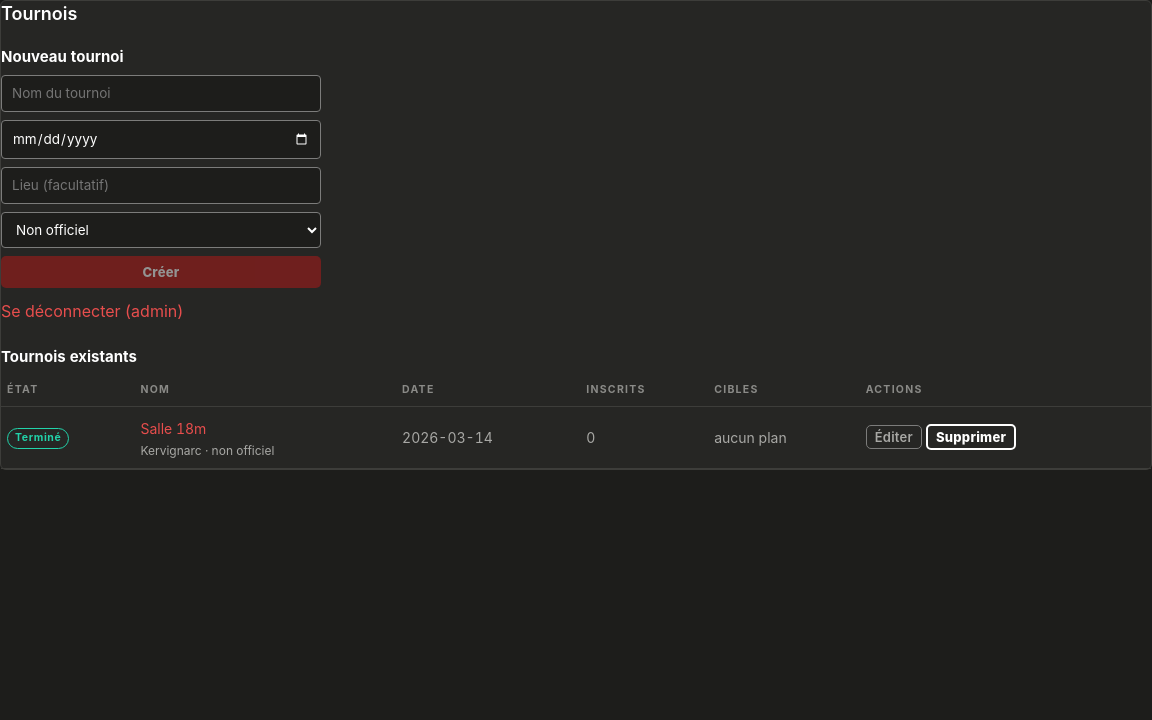
supprimer un tournoi peuplé › CA — le décompte chiffré du serveur s’affiche dans le dialogue, pas en bandeau d’erreur
Step 1. Click the button "Supprimer" → [971, 437], box [926,424,1016,450]
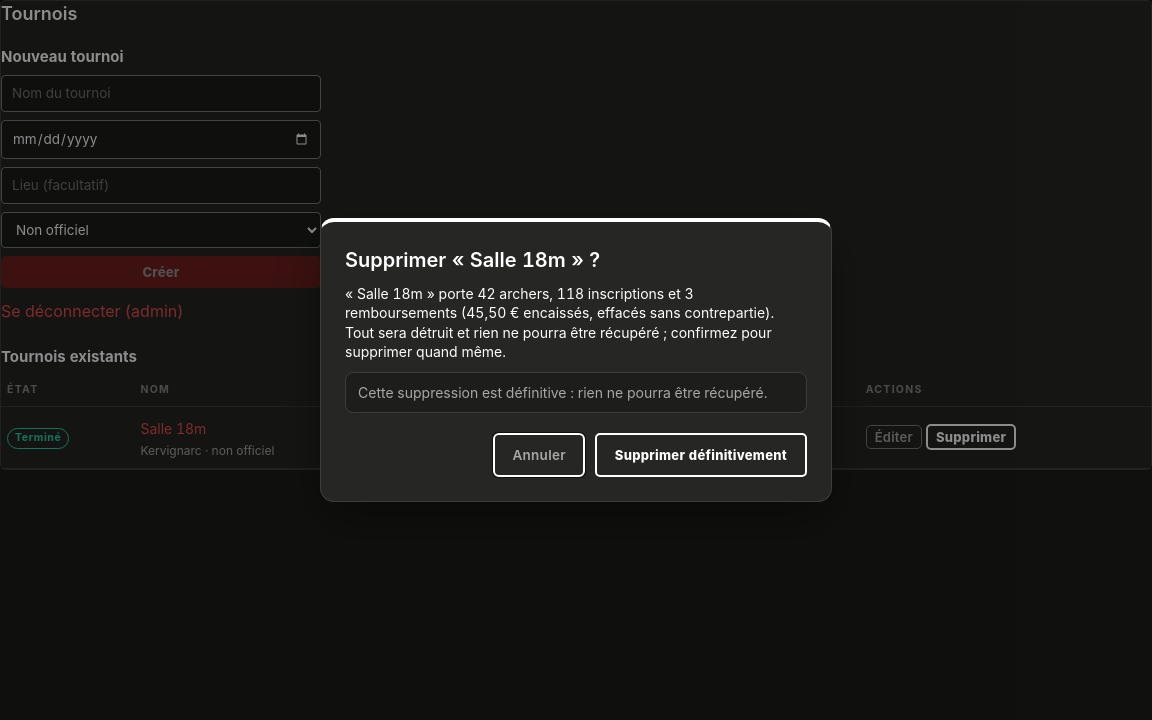
Expected: the dialog shows "42 archers", [345,284,774,360]
Expected: the dialog shows "118 inscriptions", [345,284,774,360]
Expected: the dialog shows "45,50 €", [345,284,774,360]
